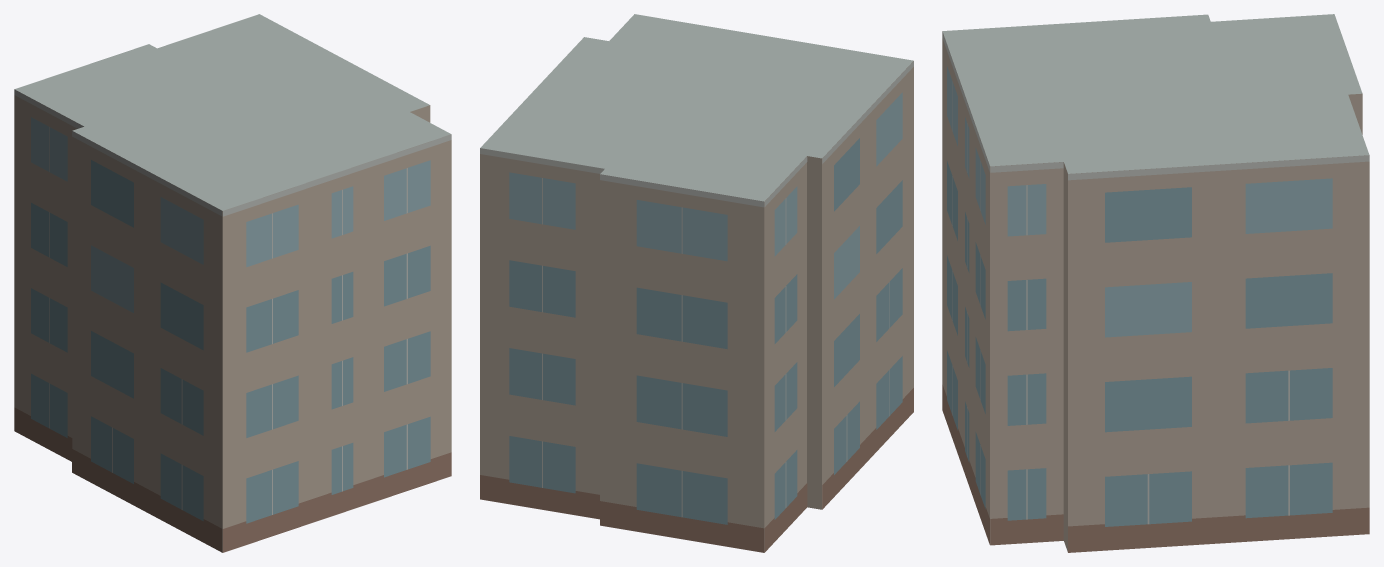
File: survey-upis-32920912.glb
The picture shows the model from 3 angles, left to right: view 1: azimuth 30°, elevation 25°; view 2: azimuth 150°, elevation 25°; view 3: azimuth 270°, elevation 25°; orthographic projection. The views are drawn at different scales.
Visible parts, largest first — view 1: survey-upis-32920912.tmp; view 2: survey-upis-32920912.tmp; view 3: survey-upis-32920912.tmp.
Part boxes in pixels (box(x1,y1,x2,y2)): survey-upis-32920912.tmp: box(14, 14, 451, 552); survey-upis-32920912.tmp: box(480, 14, 913, 552); survey-upis-32920912.tmp: box(942, 14, 1369, 552).
Bounding box in the file's own units: 13.06 × 14.42 × 14.74.
